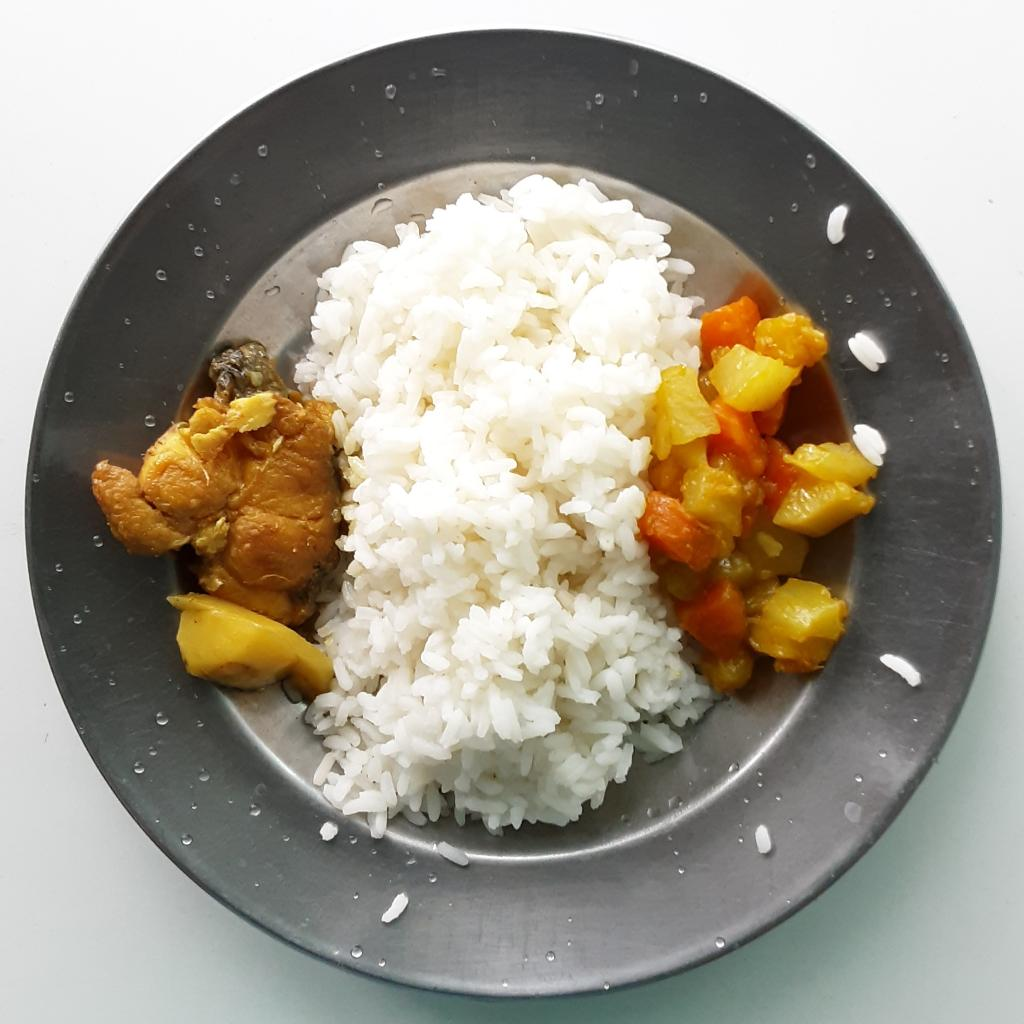fish: (95, 339, 350, 625)
potato: (170, 591, 331, 692)
rice: (293, 173, 719, 839)
vegetable: (638, 297, 881, 692)
